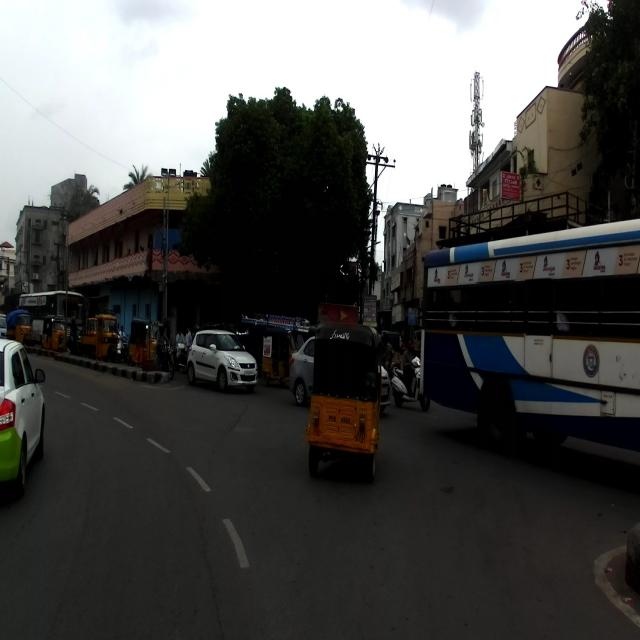Car_Hyundai: (286, 329, 390, 412)
Car_Maruti-Suzuki: (185, 326, 259, 393)
autorickshaw: (304, 319, 385, 482)
bus: (418, 190, 640, 458)
